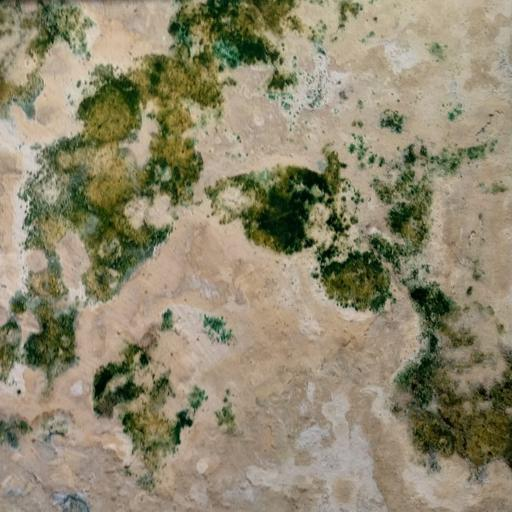algae: (9, 7, 508, 456)
